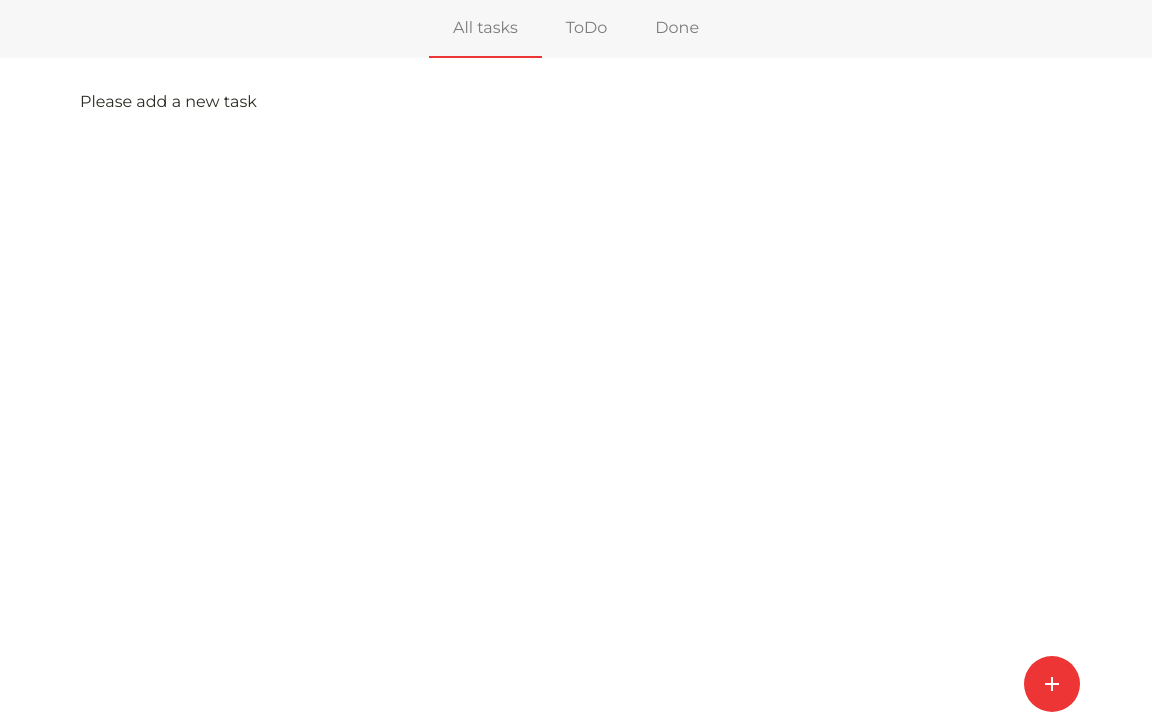
Test: Delete task › Task deleted
Click the button with id "add-task": (1052, 684) [1024,656,1080,712]
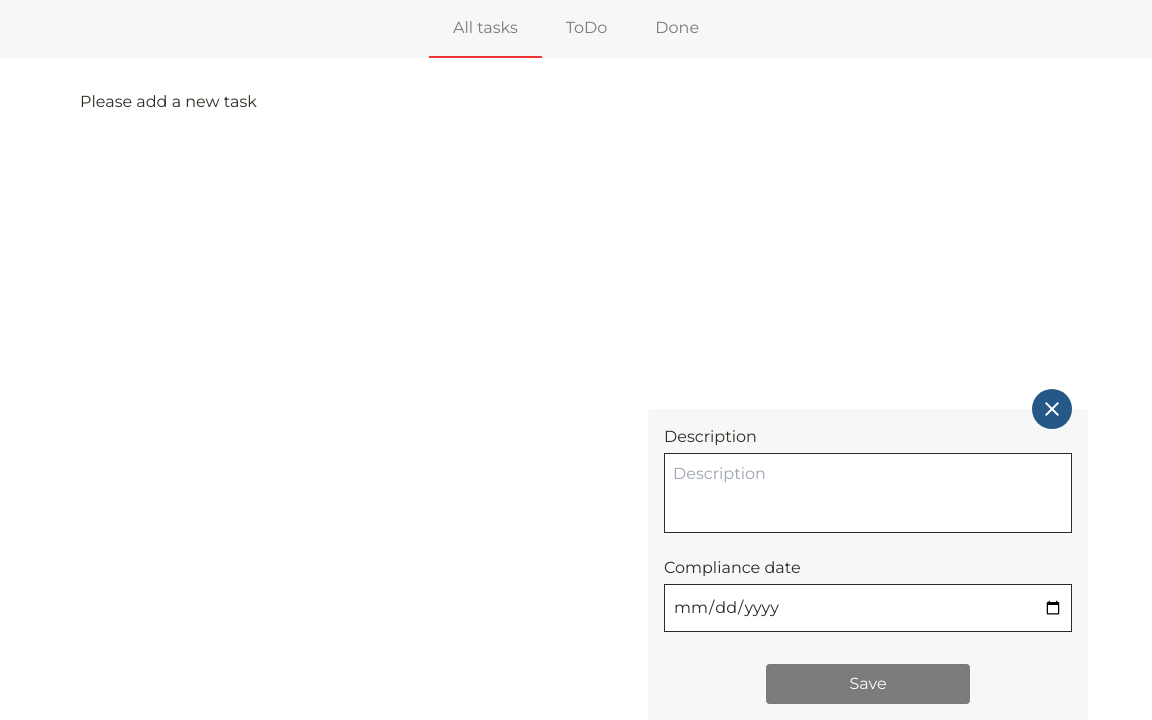
In the text box named "description": (868, 493) [664,453,1072,533], type "Lorem ipsum dolor sit amet, consectetur adipiscing elit. Sed condimentum purus sit amet dolor ultricies"
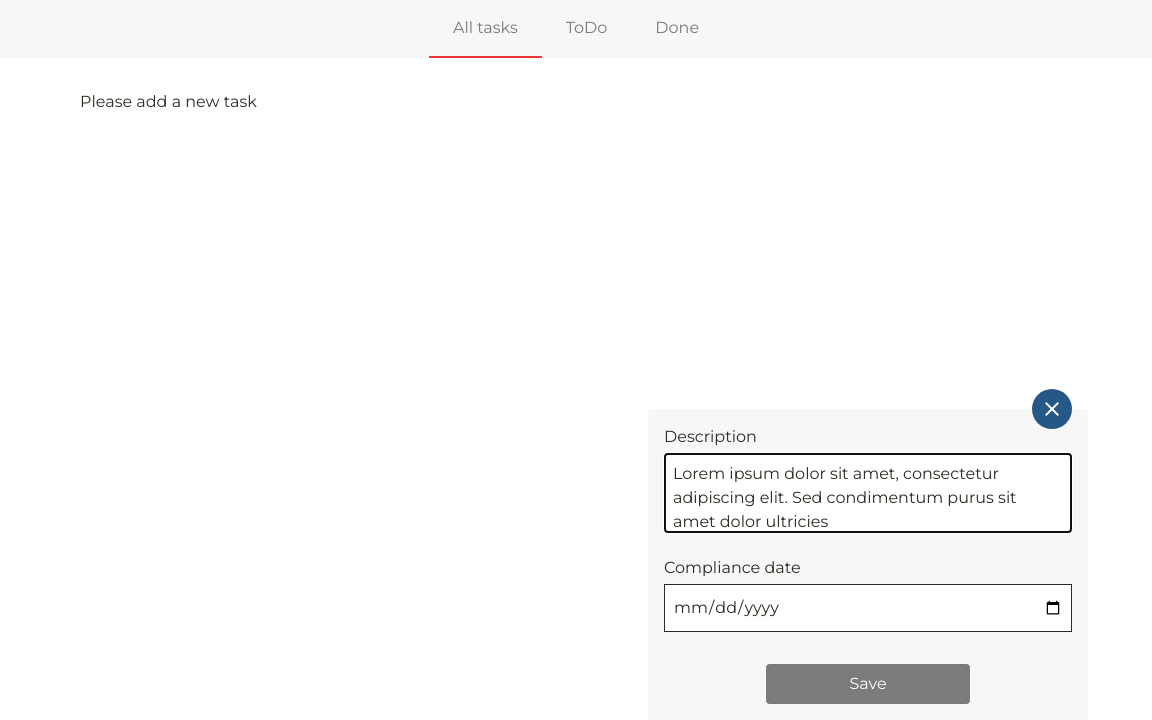
In the date field named "date": (868, 608) [664,584,1072,632], type "3000-12-12"
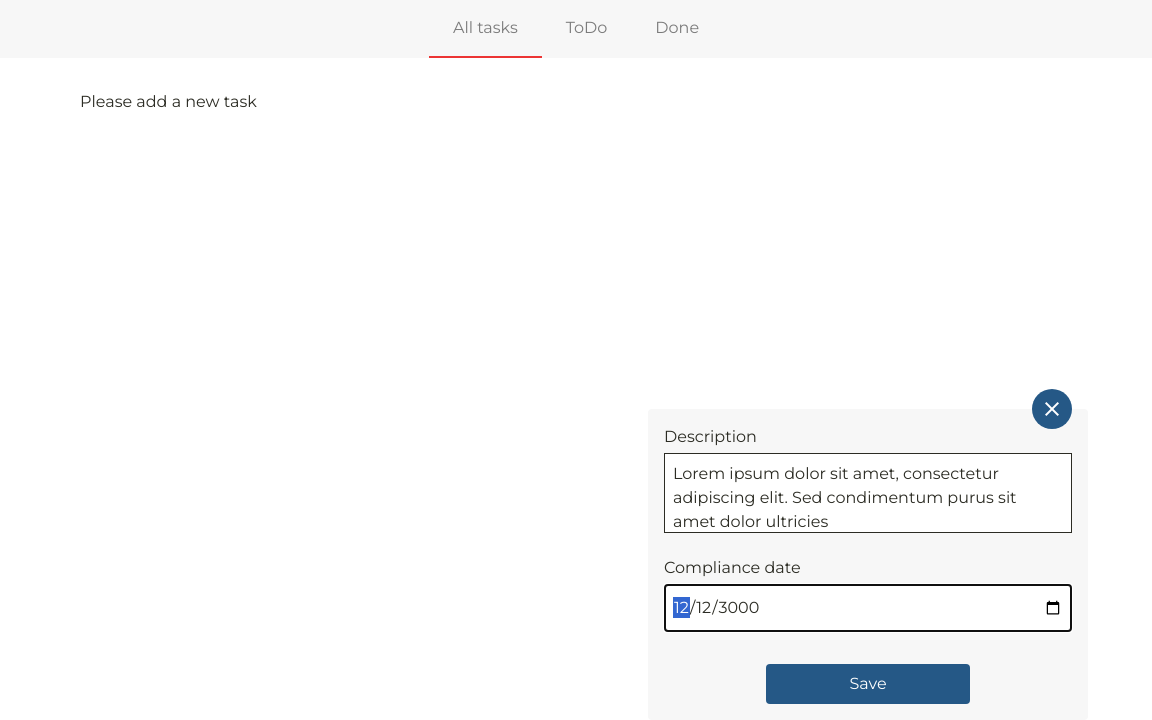
Click the button "Save": (868, 684) [766,664,970,704]
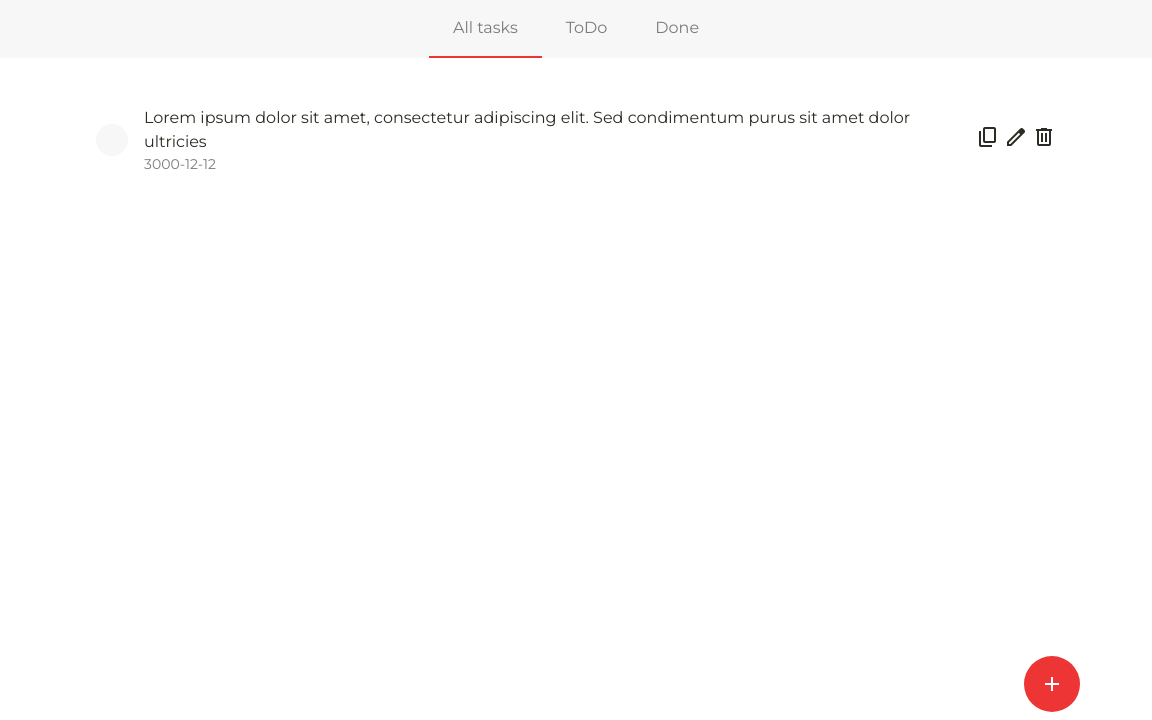
Click the 4th button "delete": (1044, 141) [1032,125,1056,156]
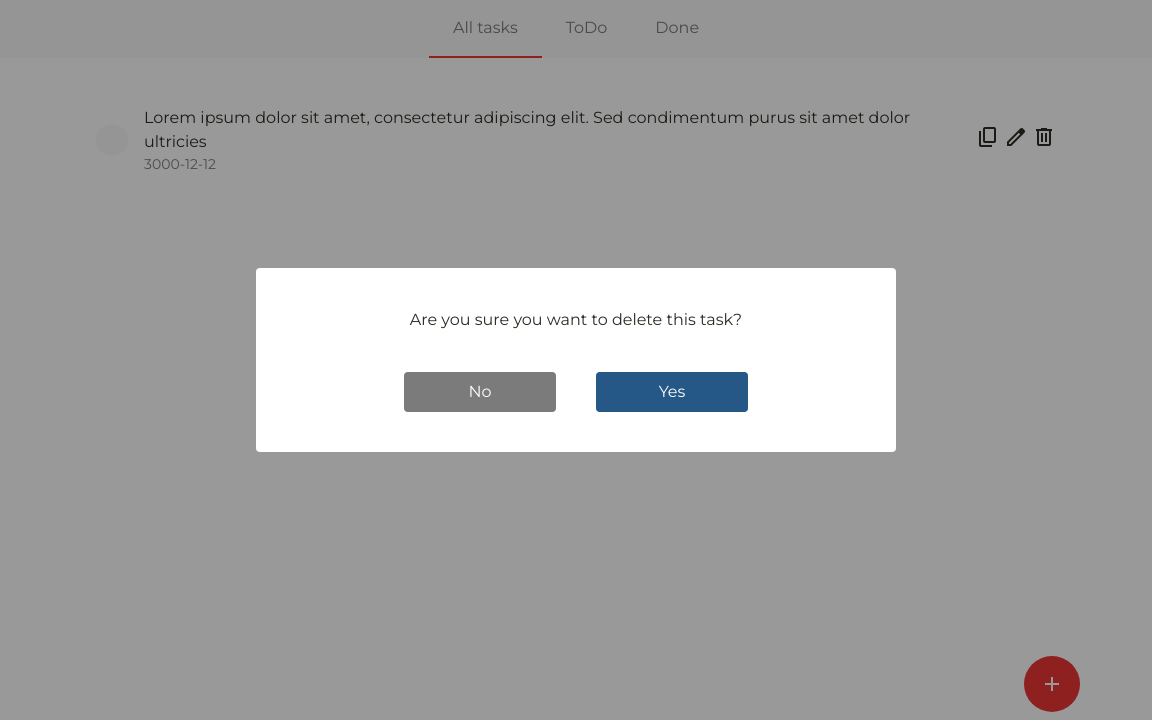
Click the button "Yes": (672, 392) [596,372,748,412]
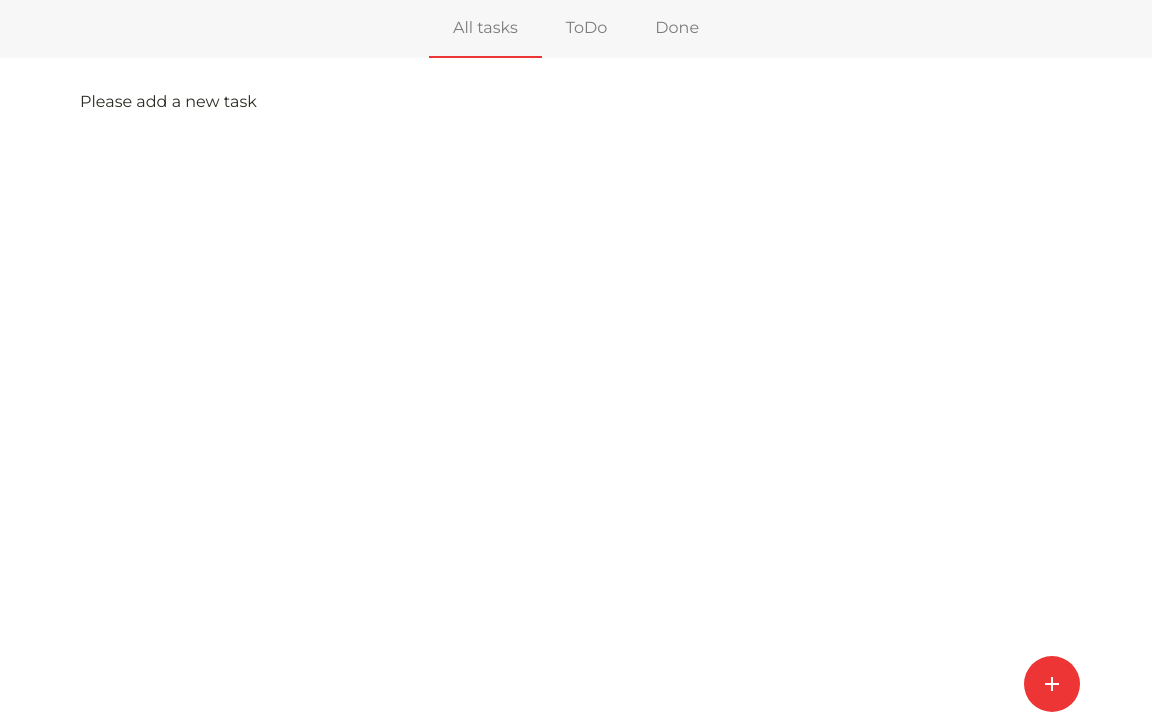
Expected: the text with id "to-do-list" reads "Please add a new task", [80,92,257,111]
